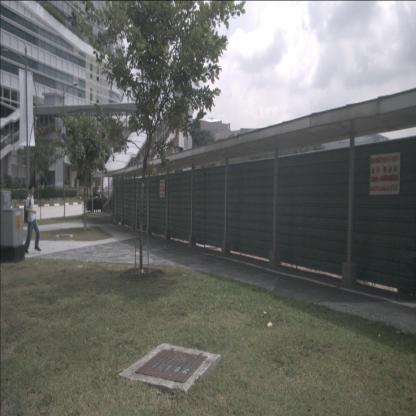human-pedestrian-adult: (22, 182, 42, 254)
vehicle-car: (92, 186, 107, 198)
